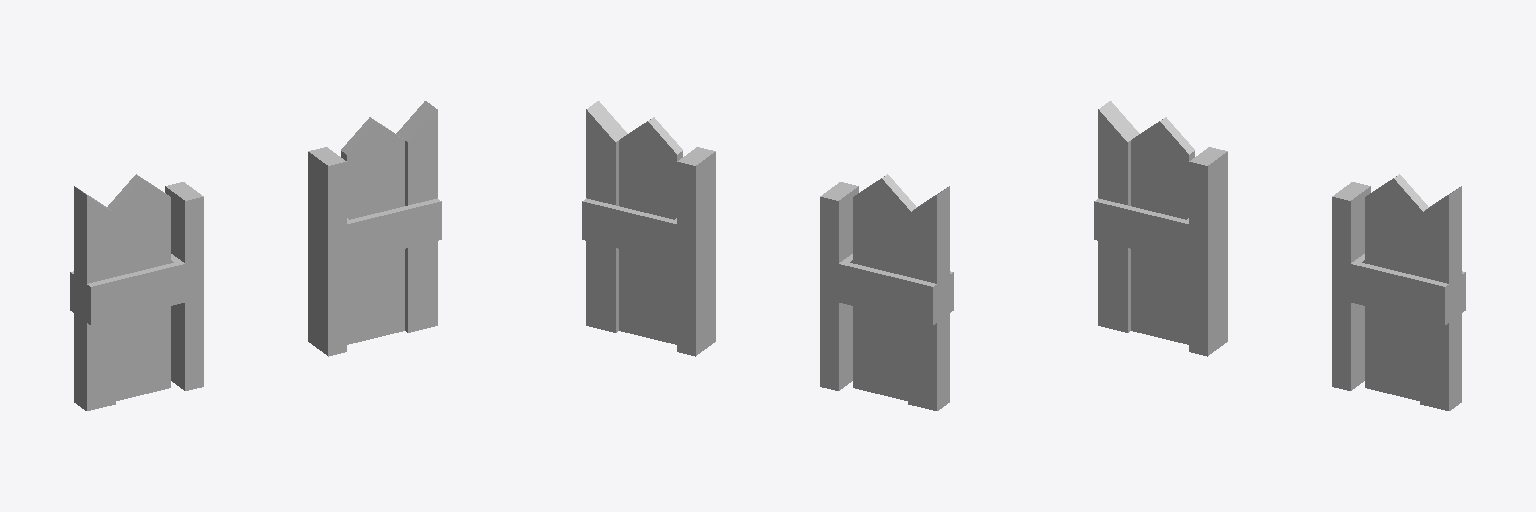
The model's file is fenceGate.obj.
3 renders of one model, left to right at view 1: azimuth 30°, elevation 25°; view 2: azimuth 150°, elevation 25°; view 3: azimuth 330°, elevation 25°, orthographic.
Visible parts, largest first — view 1: fenceGate, board; view 2: fenceGate, board; view 3: fenceGate, board.
Boxes of the visible parts, x1,y1,x2,y2 form: fenceGate: [74, 101, 437, 410]; board: [70, 147, 441, 390]; fenceGate: [586, 101, 949, 410]; board: [582, 147, 953, 390]; fenceGate: [1098, 101, 1461, 410]; board: [1094, 147, 1465, 390].
Bounding box in the file's own units: 1 × 0.59 × 0.1.